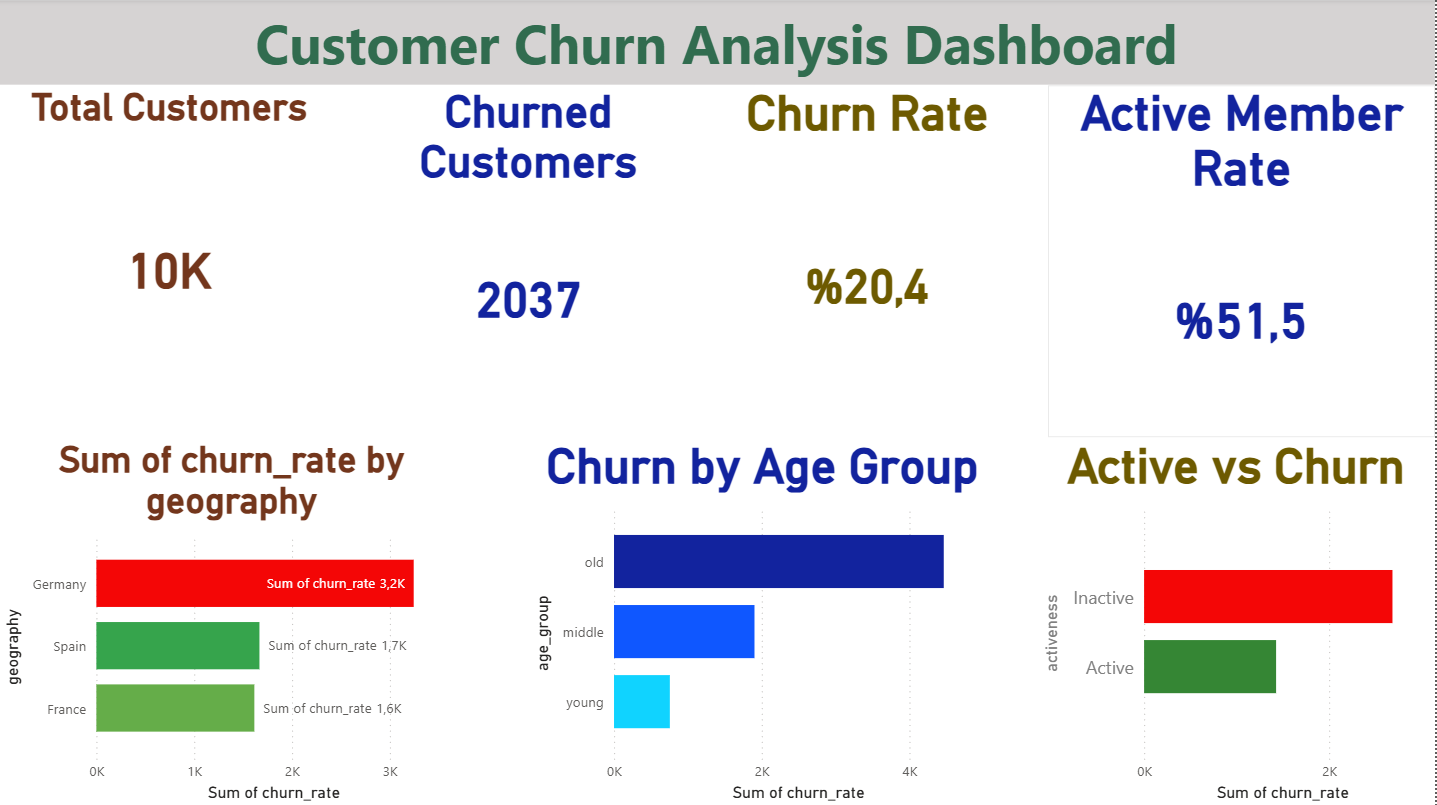

This screenshot's page, from the dashboard's own definition file:
{"tool":"powerbi","page":{"name":"Page 1","canvas":[1280,720],"ordinal":0},"visuals":[{"type":"card","title":"Total Customers","fields":{"Values":["customer_churn_analysis.count_customer"]},"box":[0,77,305,283.7],"z":0},{"type":"card","title":"Churned Customers","fields":{"Values":["Sum(customer_churn_analysis.exited)"]},"box":[305,77,335,283.7],"z":1000},{"type":"card","title":"Churn Rate","fields":{"Values":["customer_churn_analysis.Churn_rate"]},"box":[602.9,77,342.1,300.8],"z":2000},{"type":"card","title":"Active Member Rate","fields":{"Values":["customer_churn_analysis.Active Member Rate"]},"box":[935.1,77,344.9,313.6],"z":3000},{"type":"clusteredBarChart","title":"Sum of churn_rate by geography","fields":{"Category":["churn_by_geography.geography"],"Y":["Sum(churn_by_geography.churn_rate)"]},"box":[0,390.6,416.2,329.3],"z":4000},{"type":"clusteredBarChart","title":"Churn by Age Group","fields":{"Category":["modelsanalyticschurn_by_age_group.age_group"],"Y":["Sum(modelsanalyticschurn_by_age_group.churn_rate)"]},"box":[471.8,390.6,417.6,329.3],"z":5000},{"type":"clusteredBarChart","title":"Active vs Churn","fields":{"Category":["active_vs_churn.activeness"],"Y":["Sum(active_vs_churn.churn_rate)"]},"box":[925.1,390.6,354.9,329.3],"z":6000},{"type":"textbox","box":[0,1.4,1280,75.5],"z":6001}]}

Visuals, with their boxes in screenshot pixels (x1, y1, x2, y2), scaled from the page's 1280x720 canvas onto the 1437x805 screenshot:
"Total Customers" card: <region>0, 86, 342, 403</region>
"Churned Customers" card: <region>342, 86, 718, 403</region>
"Churn Rate" card: <region>677, 86, 1061, 422</region>
"Active Member Rate" card: <region>1050, 86, 1436, 437</region>
"Sum of churn_rate by geography" clusteredBarChart: <region>0, 437, 467, 804</region>
"Churn by Age Group" clusteredBarChart: <region>530, 437, 998, 804</region>
"Active vs Churn" clusteredBarChart: <region>1039, 437, 1436, 804</region>
textbox: <region>0, 2, 1436, 86</region>
